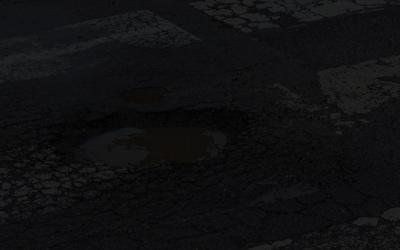pothole: (62, 100, 256, 173)
